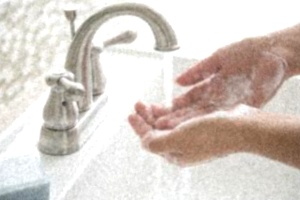washing hand: (79, 7, 275, 176)
